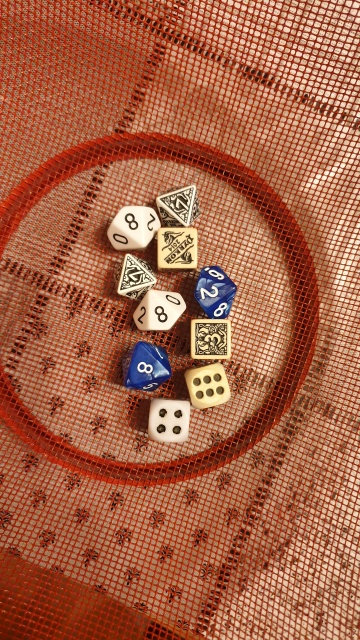d10-2: (188, 263, 238, 319)
d10-8: (109, 340, 173, 394), (125, 287, 185, 336), (104, 204, 160, 254)
d6-4: (144, 397, 190, 445)
d6-6: (185, 362, 233, 408)
d6p-1: (154, 226, 199, 269)
d6p-3: (188, 317, 232, 362)
d8p-7: (153, 179, 203, 226), (110, 252, 155, 300)
